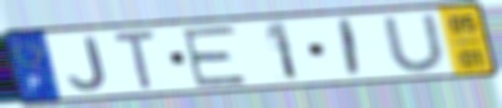1: (263, 19, 301, 84)
E: (178, 23, 250, 89)
I: (337, 17, 363, 80)
J: (66, 34, 110, 93)
T: (110, 29, 160, 93)
U: (378, 12, 451, 74)
